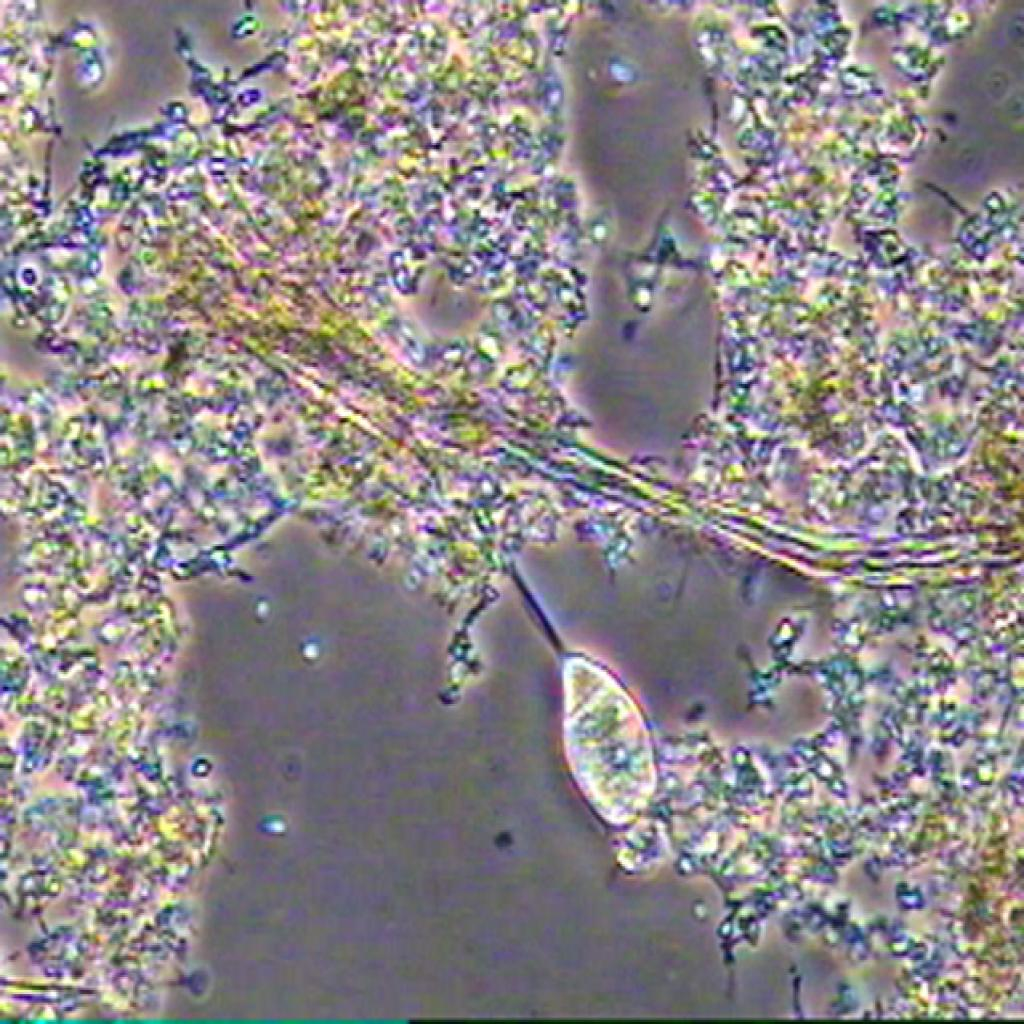Vorticella: (511, 560, 668, 880)
